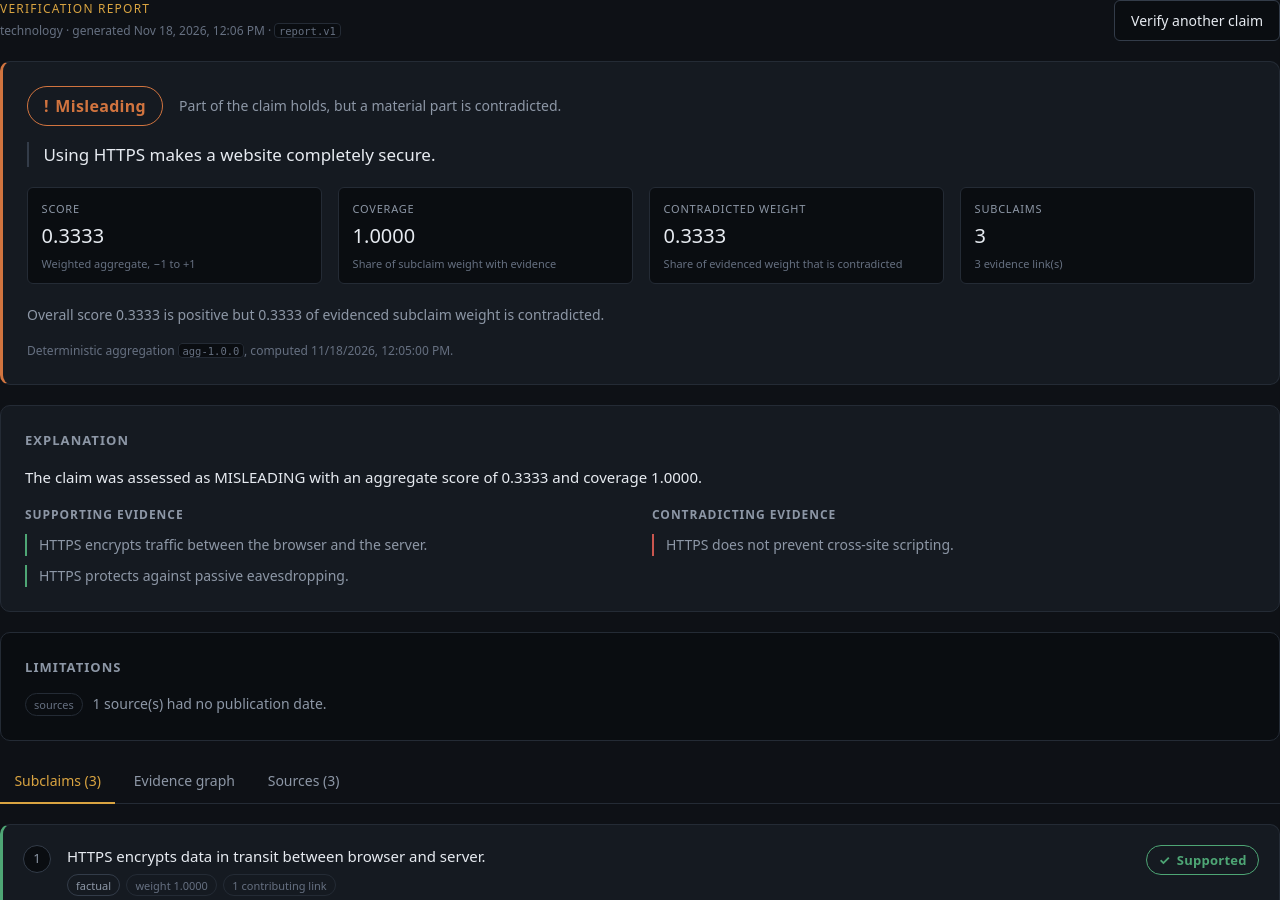
it: ReportView — sources › shows source details when a source is selected
The width and height of the screenshot is (1280, 900).
What coordinates should you click on to do the following:
click the tab "Sources (3)"
I would click on:
 (304, 782)
Its box is [253,761,354,804].
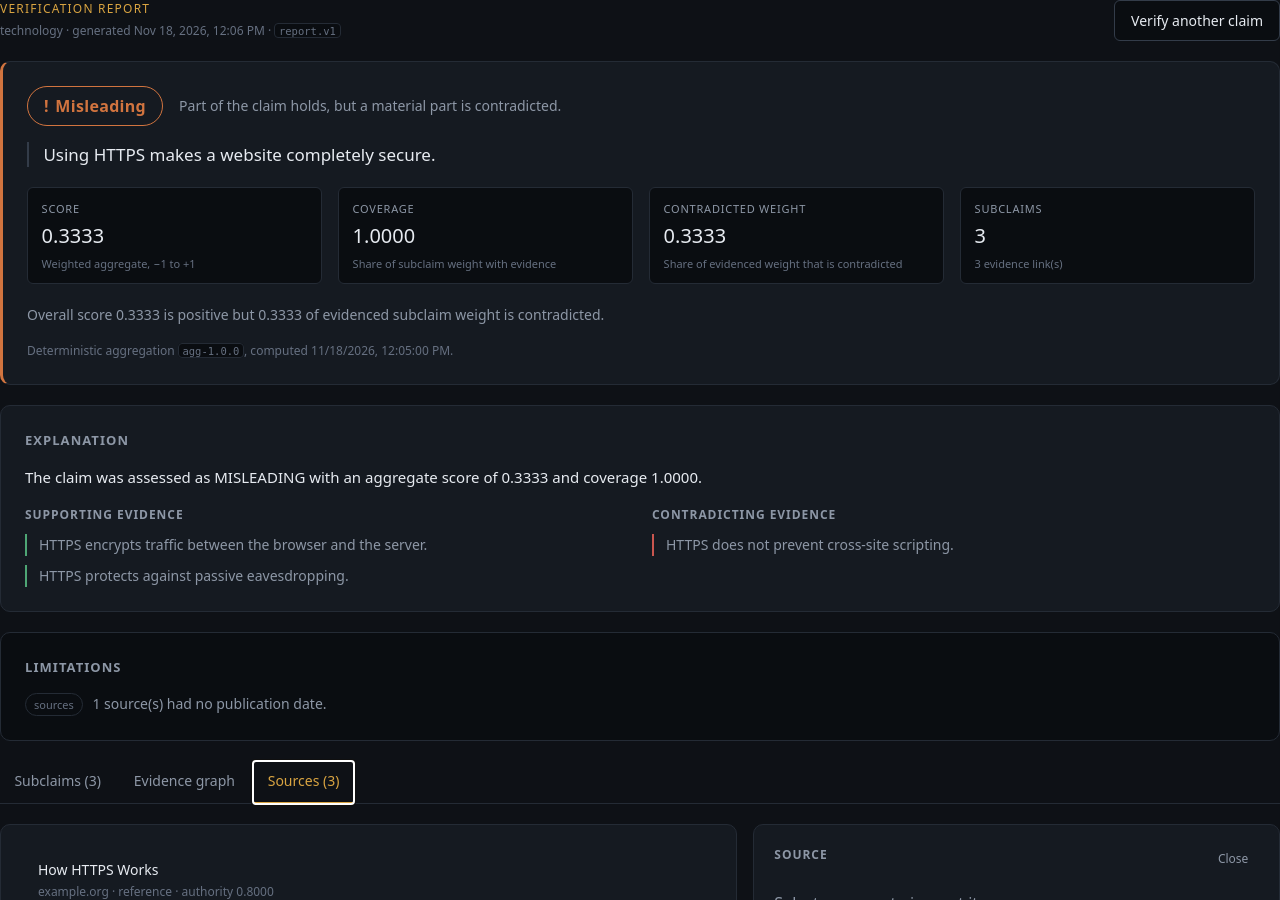
What coordinates should you click on to do the following:
click the text "How HTTPS Works"
I would click on:
 (98, 870)
Its box is [38,859,158,881].
(page scrolled)
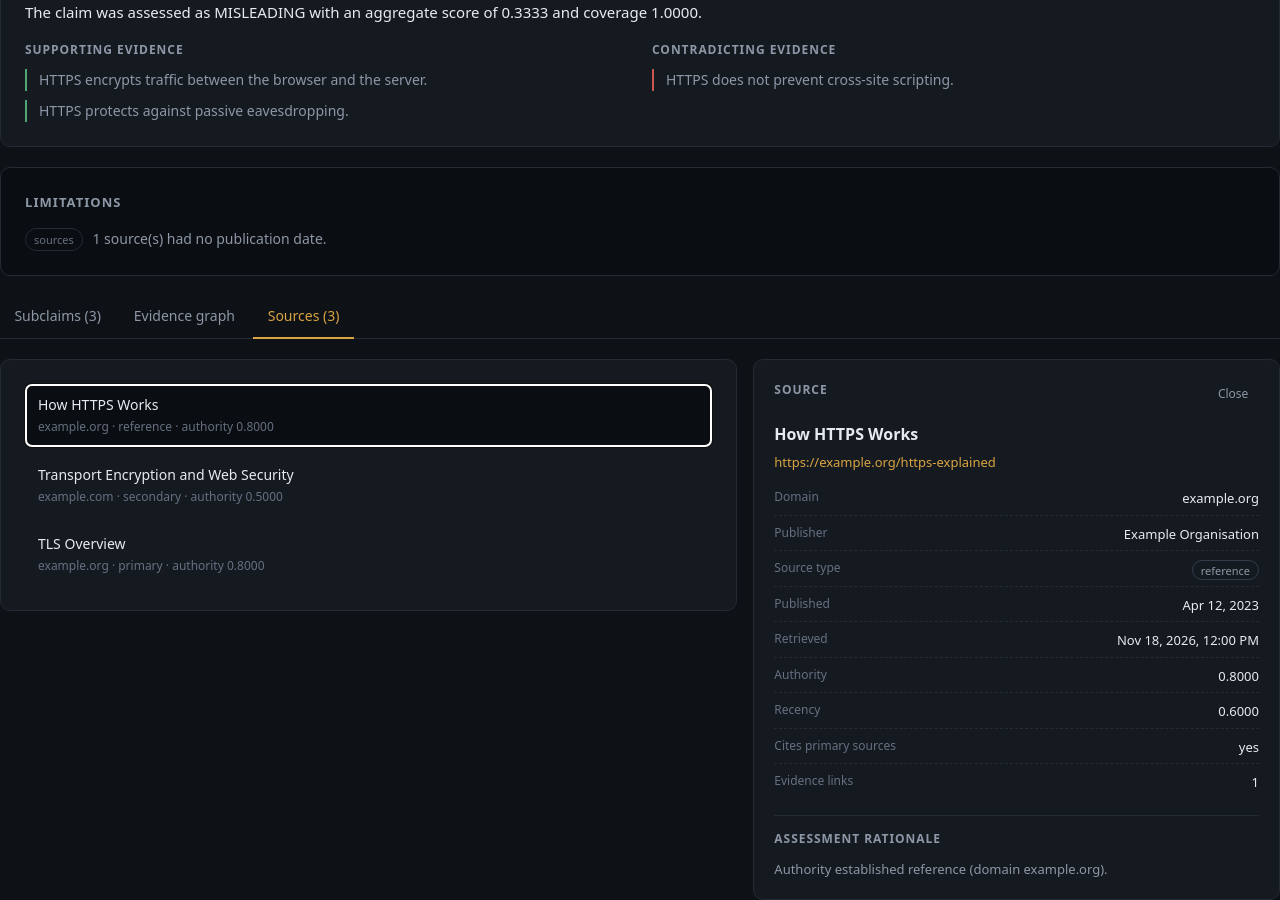
Expected: the text "Example Organisation" is shown, [1124,524,1259,544]
Expected: the text "0.8000" is shown, [1218,666,1259,686]
Expected: the text "Authority established reference (domain example.org)." is shown, [774,860,1108,878]
